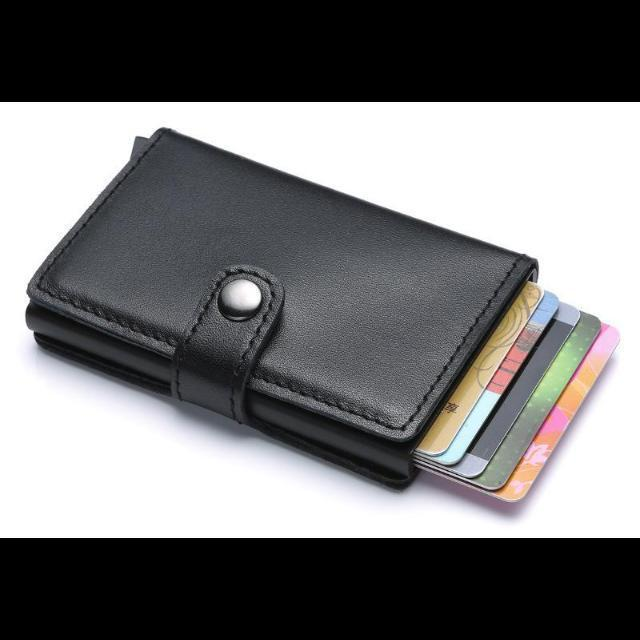wallet: (26, 122, 540, 486)
